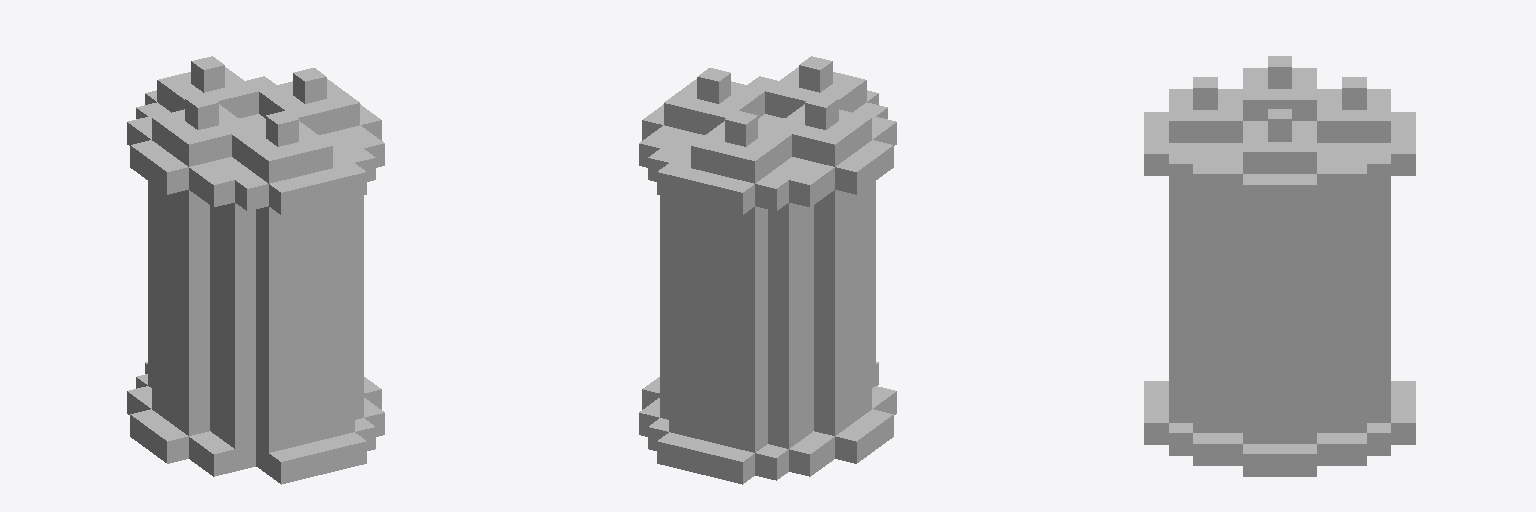
File: bad thing.vox.obj
3 renders of one model, left to right at view 1: azimuth 30°, elevation 25°; view 2: azimuth 150°, elevation 25°; view 3: azimuth 270°, elevation 25°, orthographic.
Visible parts, largest first — view 1: object 1; view 2: object 1; view 3: object 1.
Boxes of the visible parts, box(x1,y1,x2,y2) form: object 1: box(127, 56, 384, 484); object 1: box(639, 56, 896, 484); object 1: box(1144, 56, 1415, 476).
Bounding box in the file's own units: 1 × 1.5 × 1.1.